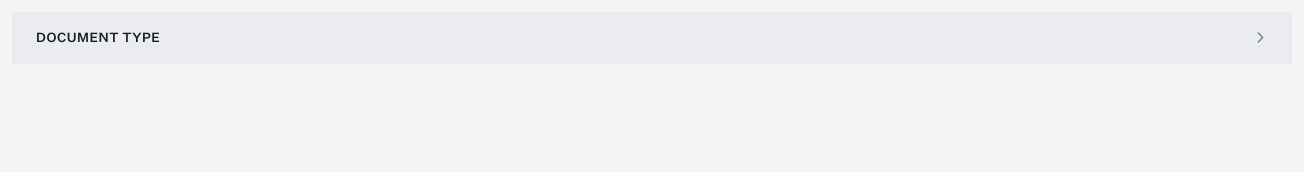
Test case: FilterCard › collapses again on a second click
Click the button "Document type".
click(98, 37)  # box [12, 12, 1292, 64]
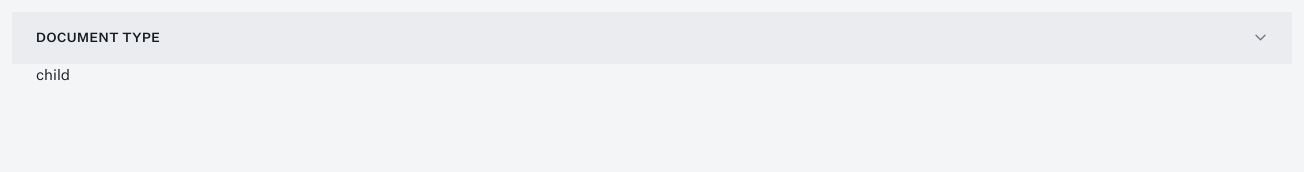
Click the button "Document type".
click(98, 37)  # box [12, 12, 1292, 64]
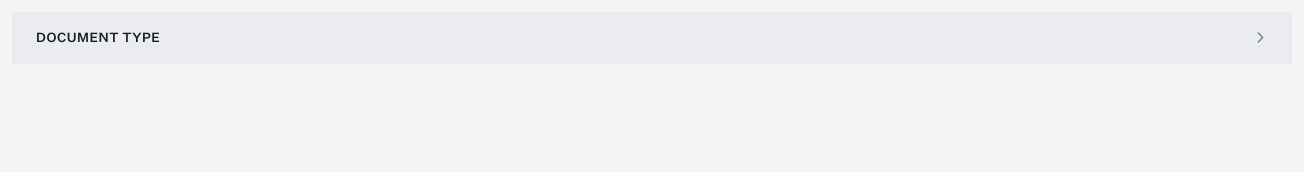
Expected: the button "Document type" is collapsed, [12, 12, 1292, 64]
